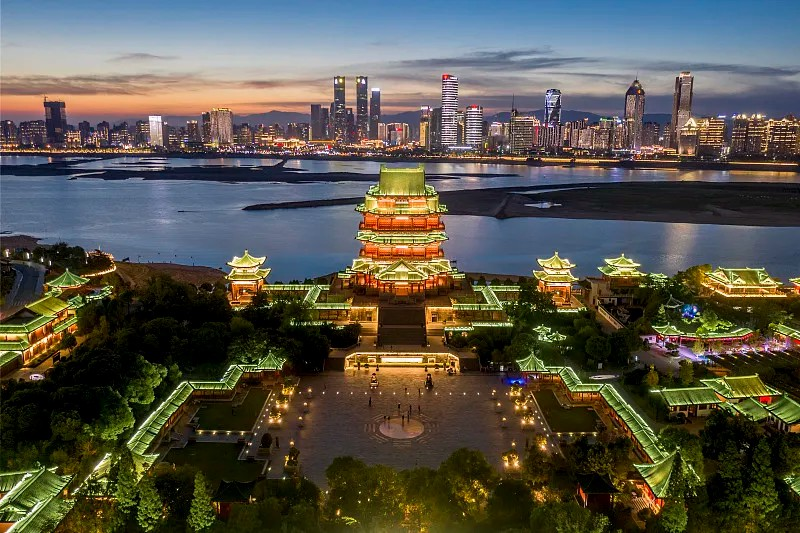Teng: (338, 164, 466, 296)
